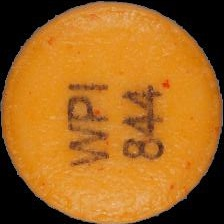33261-830: (0, 0, 224, 224)
